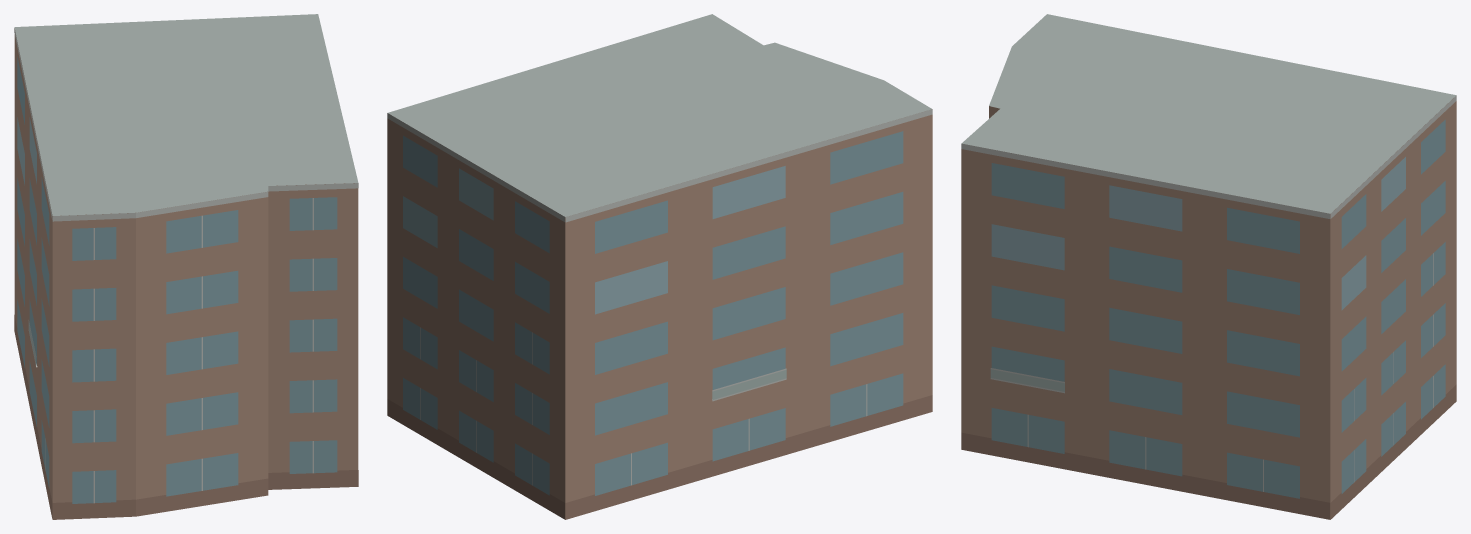
The model's file is survey-upis-32543881.glb.
The picture shows the model from 3 angles, left to right: view 1: azimuth 30°, elevation 25°; view 2: azimuth 150°, elevation 25°; view 3: azimuth 270°, elevation 25°; orthographic projection.
Visible parts, largest first — view 1: survey-upis-32543881.tmp; view 2: survey-upis-32543881.tmp; view 3: survey-upis-32543881.tmp.
Part boxes in pixels (left/top/right/bottom): survey-upis-32543881.tmp: left=14, top=14, right=358, bottom=519; survey-upis-32543881.tmp: left=387, top=14, right=932, bottom=519; survey-upis-32543881.tmp: left=961, top=14, right=1456, bottom=519.
Size of the model in its own units: 19.04 by 13.6 by 19.95.
